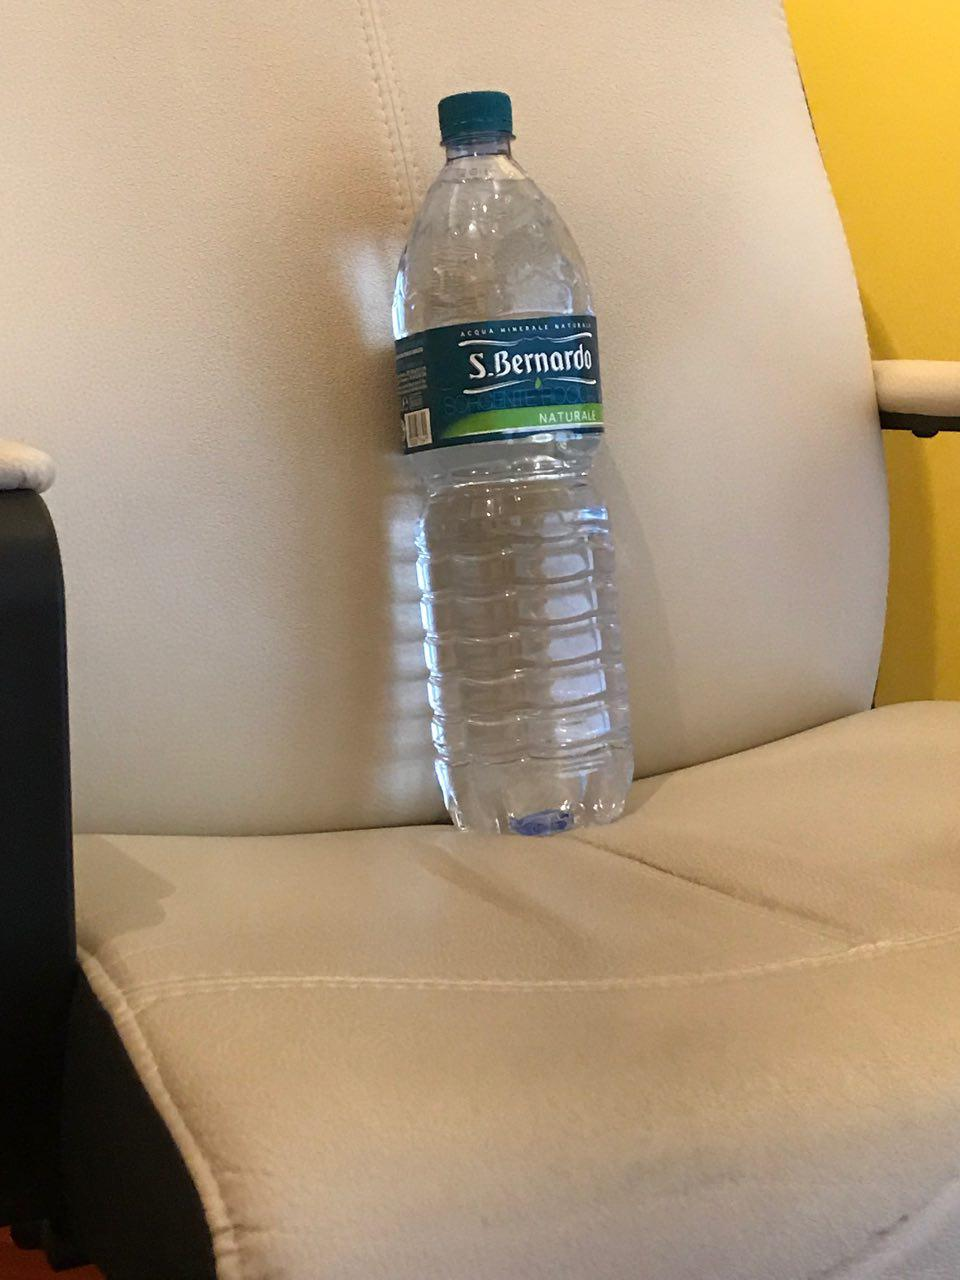san_bernardo: (389, 90, 636, 836)
